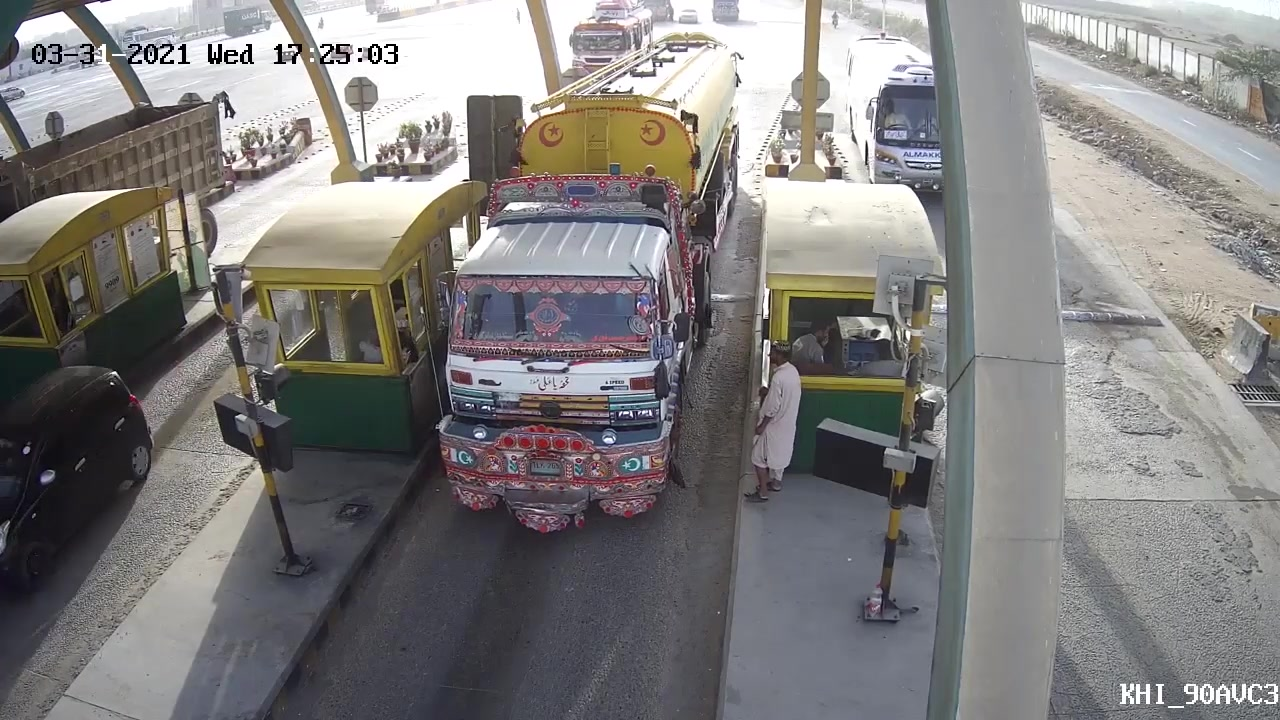F6: (430, 42, 744, 575)
